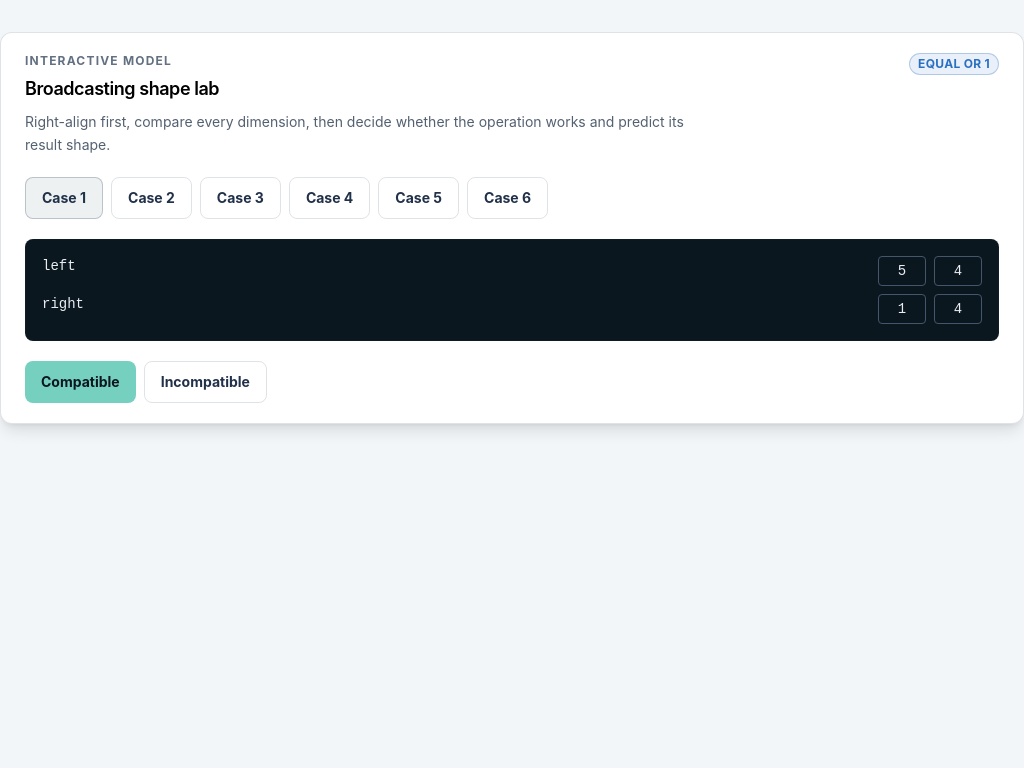
broadcasting interactives › requires result-shape prediction before revealing a compatible result
Click the button "Case 6" at x=508, y=198, box [467,176,548,218]
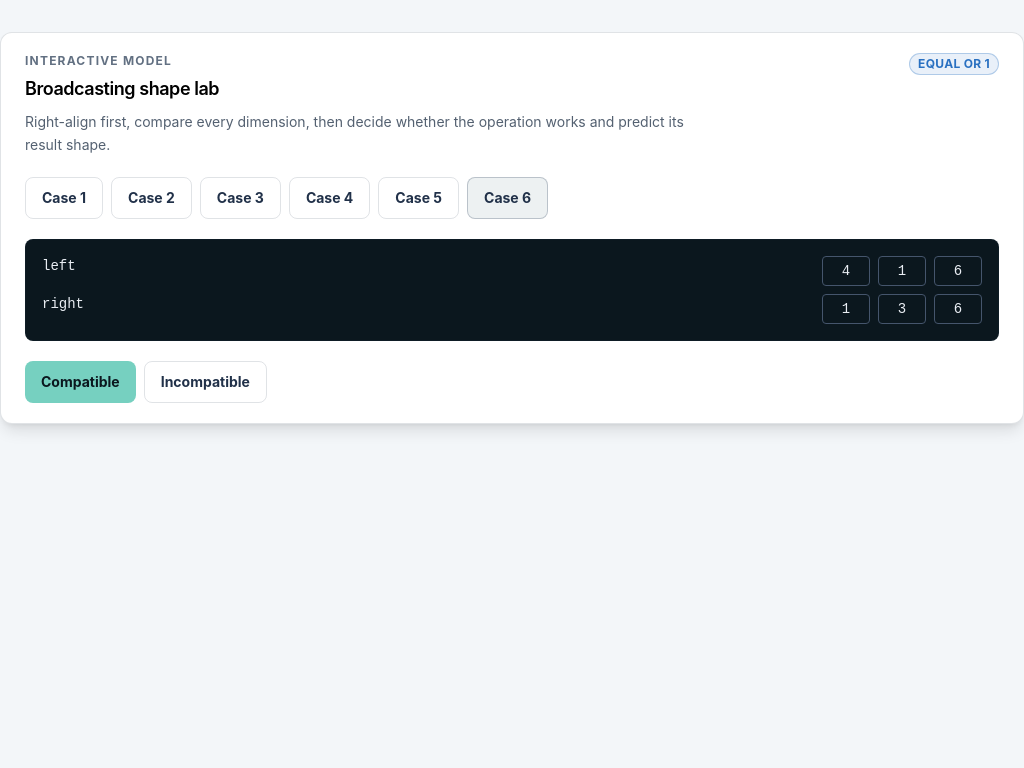
Click the button "Compatible" at x=80, y=382, box [25,360,136,402]
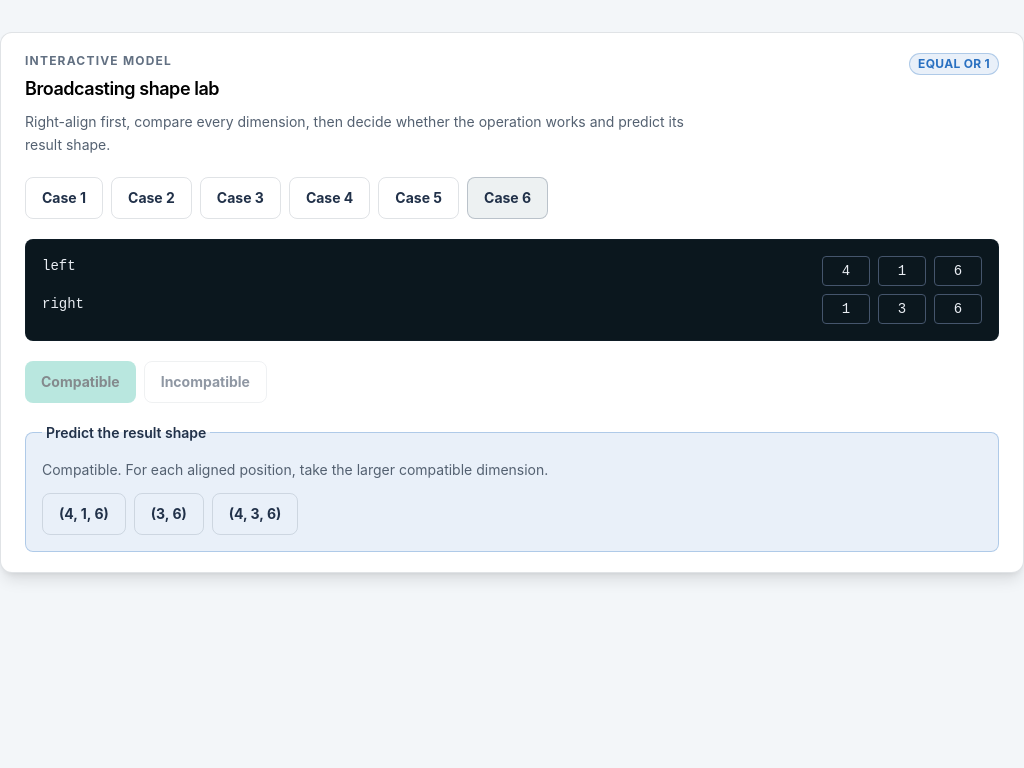
Expected: the text "result: (4, 3, 6)" is not shown
Result: the text "Predict the result shape" is shown at [42,422,210,442]
Click the button "(3, 6)" at x=169, y=514, box [134,493,204,535]
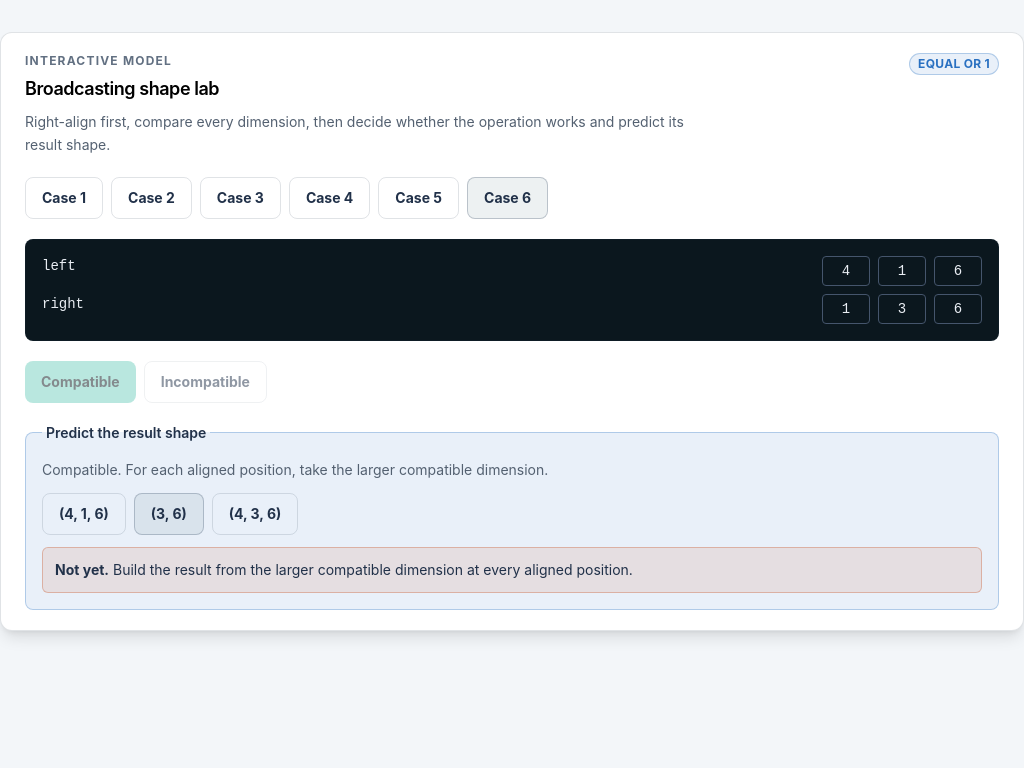
Expected: the text "result: (4, 3, 6)" is not shown
Result: the message shows "larger compatible dimension" at [109,561,633,578]
Click the button "(4, 3, 6)" at x=255, y=514, box [212,493,298,535]
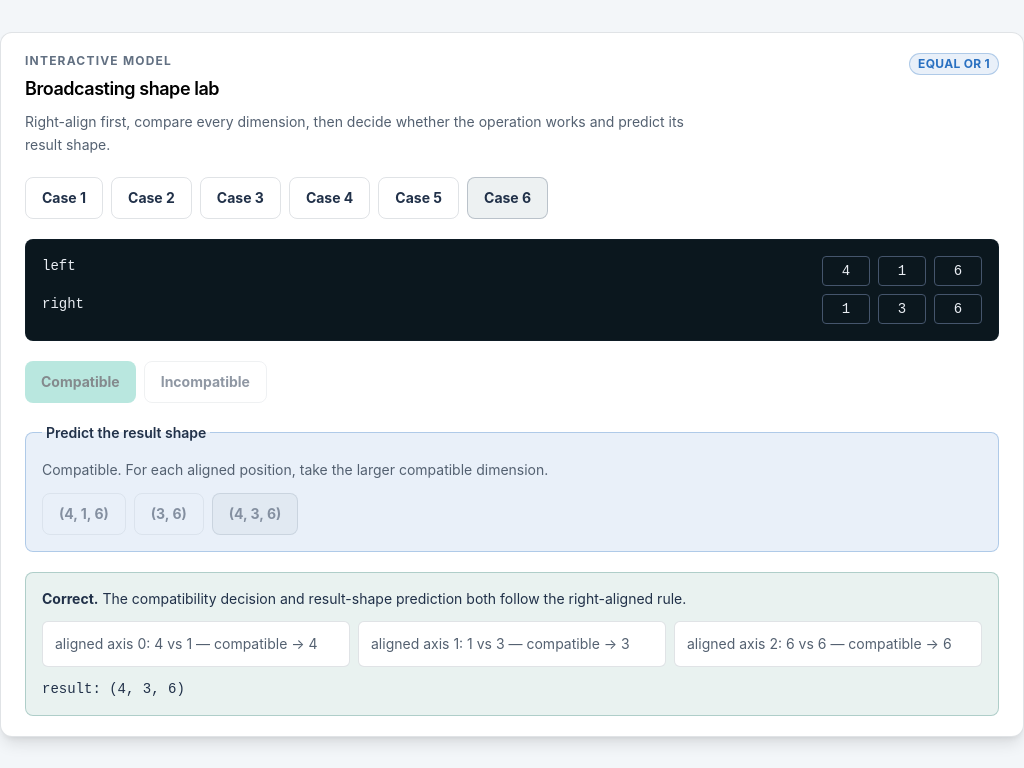
Result: the message shows "result: (4, 3, 6)" at [25,572,999,716]
Result: the message shows "1 vs 3" at [25,572,999,716]
